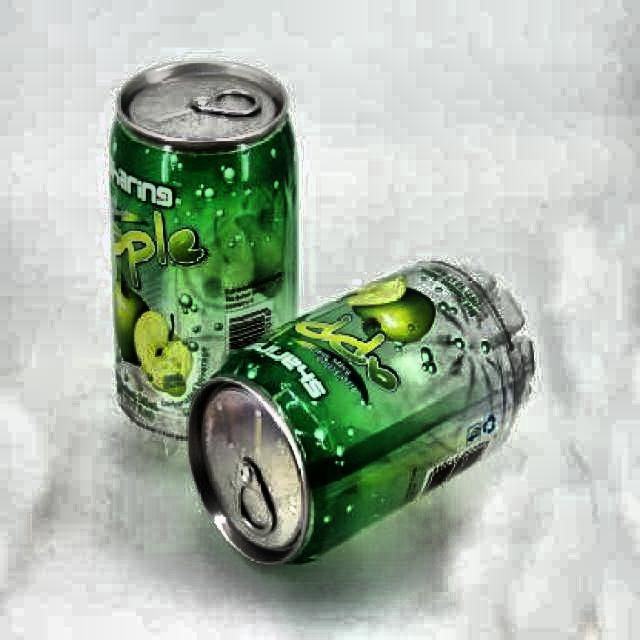can: (186, 250, 544, 571), (101, 49, 307, 451)
